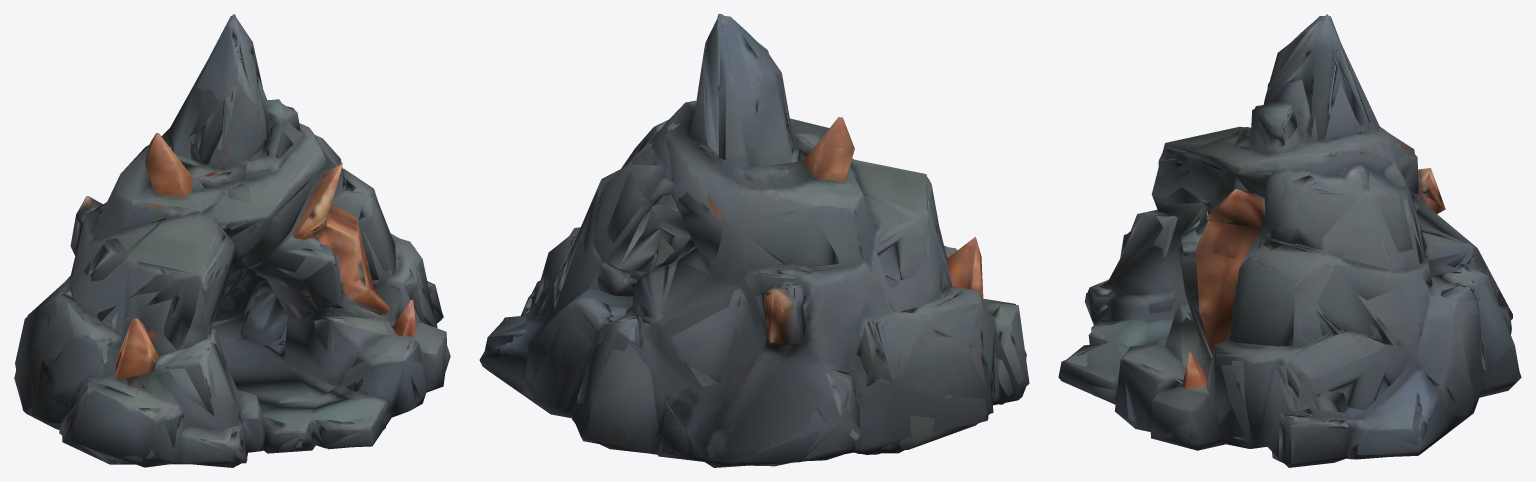
The model's file is lair_thunder.glb.
3 renders of one model, left to right at view 1: azimuth 30°, elevation 25°; view 2: azimuth 150°, elevation 25°; view 3: azimuth 270°, elevation 25°, orthographic. The views are drawn at different scales.
Visible parts, largest first — view 1: Mesh_0; view 2: Mesh_0; view 3: Mesh_0.
Boxes of the visible parts, x1=… form: Mesh_0: x1=14, y1=14, x2=450, y2=467; Mesh_0: x1=479, y1=14, x2=1029, y2=467; Mesh_0: x1=1058, y1=14, x2=1521, y2=467.
Size of the model in its own units: 2.77 by 2.19 by 2.52.
1 material, 1 textured.
